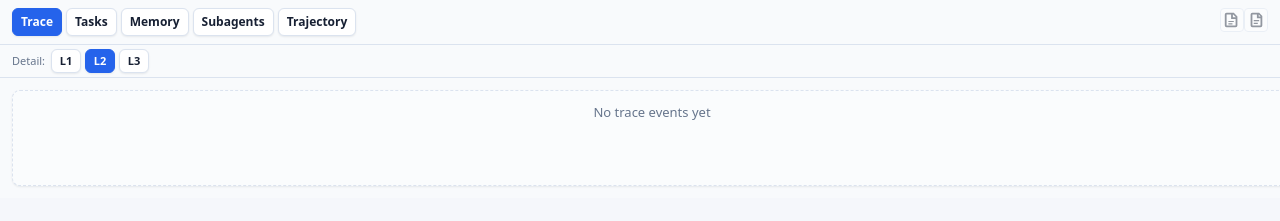
TraceTimeline › switches to Subagents tab and renders the subagent panel
Click the button with test id "trace-tab-subagents".
click(233, 22)  # box x1=193 y1=8 x2=274 y2=36
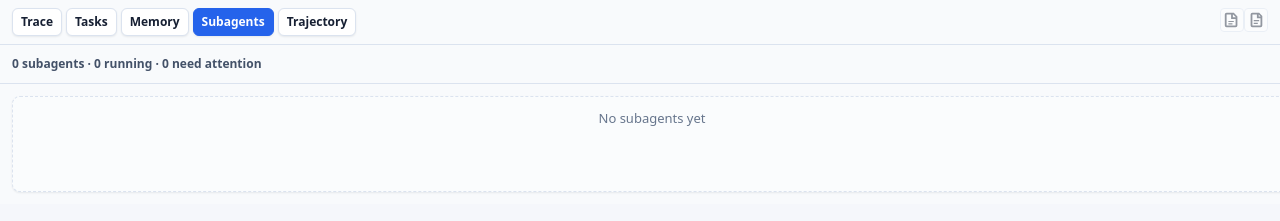
Check: the element with test id "subagent-panel" is shown
